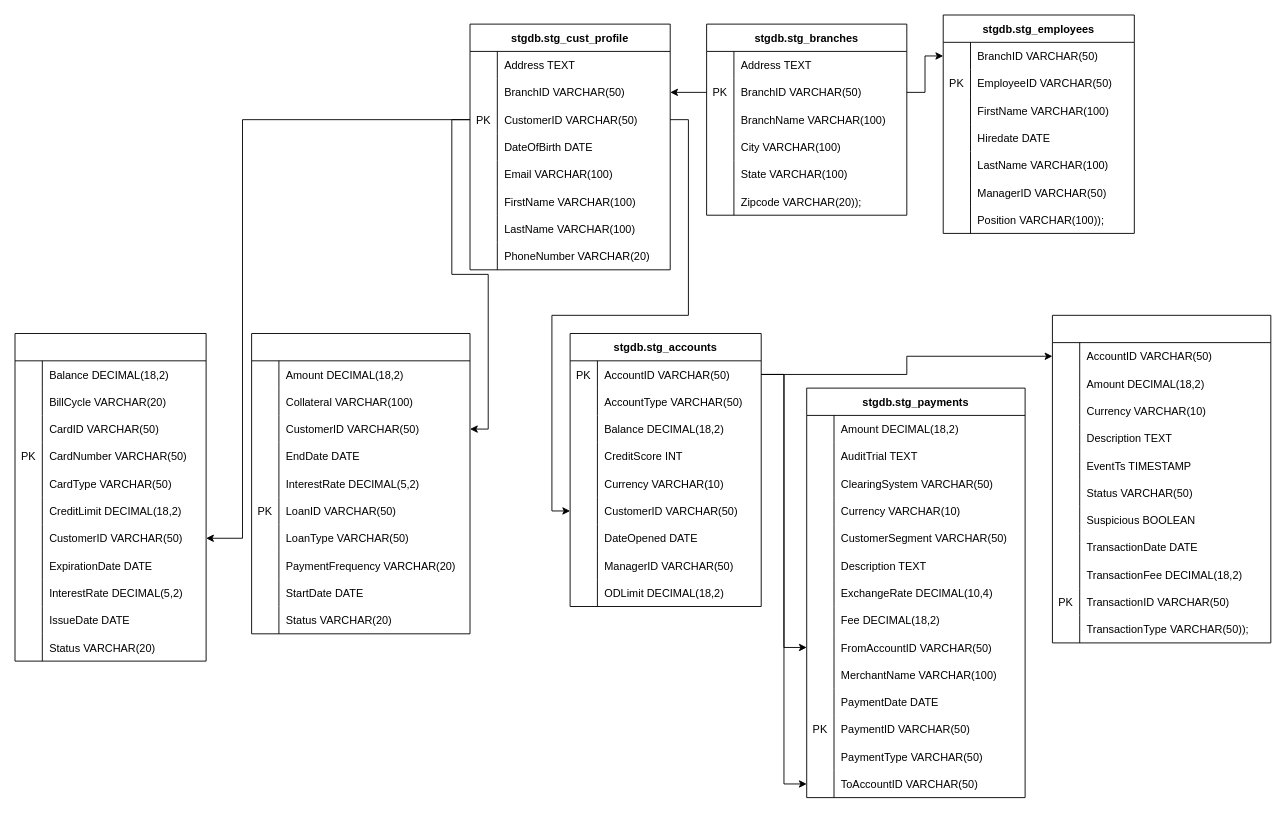
This 1286x813 diagram has some shape labels left out. Each missing label, with the box of its shape:
stgdb.stg_creditcard: (14, 333, 206, 661)
stgdb.stg_loans: (251, 333, 470, 634)
stgdb.stg_transactions: (1052, 314, 1271, 643)
